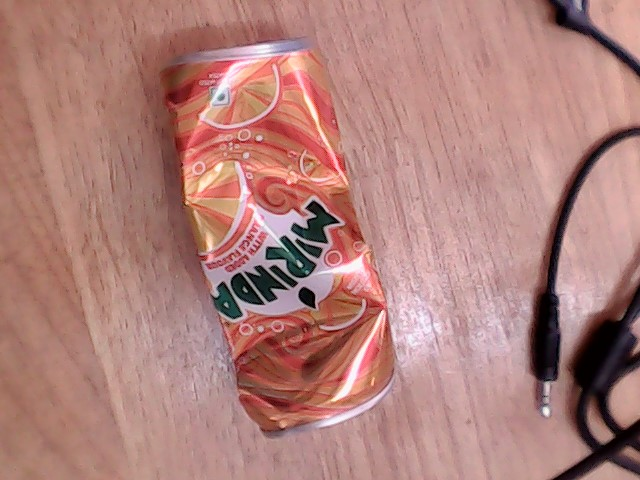Metal: (154, 59, 399, 425)
